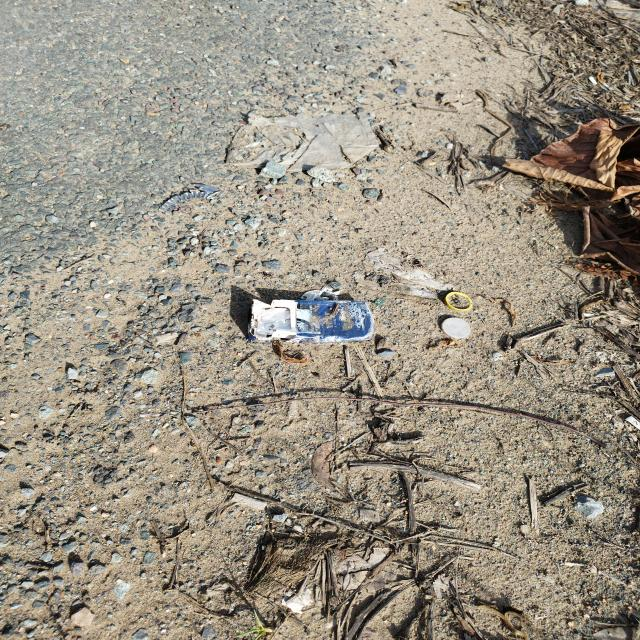cardboard box: (251, 300, 374, 341)
